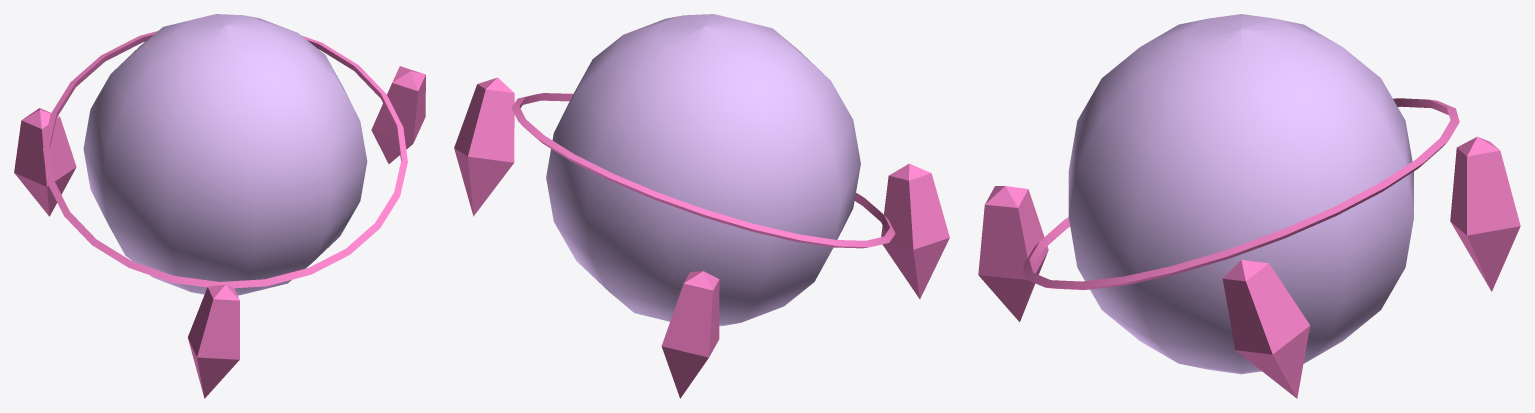
Rendered from ChaosWisp.glb.
The picture shows the model from 3 angles, left to right: view 1: azimuth 30°, elevation 25°; view 2: azimuth 150°, elevation 25°; view 3: azimuth 270°, elevation 25°; orthographic projection. The views are drawn at different scales.
Visible parts, largest first — view 1: Shell, Shards; view 2: Shell, Shards; view 3: Shell, Shards.
Boxes of the visible parts, x1,y1,x2,y2 form: Shell: (83, 14, 367, 295); Shards: (14, 31, 425, 398); Shell: (546, 14, 860, 326); Shards: (454, 77, 949, 398); Shell: (1068, 14, 1413, 374); Shards: (978, 98, 1520, 398).
Size of the model in its own units: 2.98 by 2.19 by 2.99.
